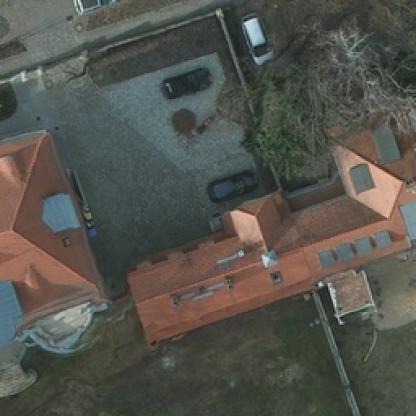car: (239, 8, 275, 64), (160, 66, 209, 94), (206, 170, 258, 196), (61, 0, 119, 12)
